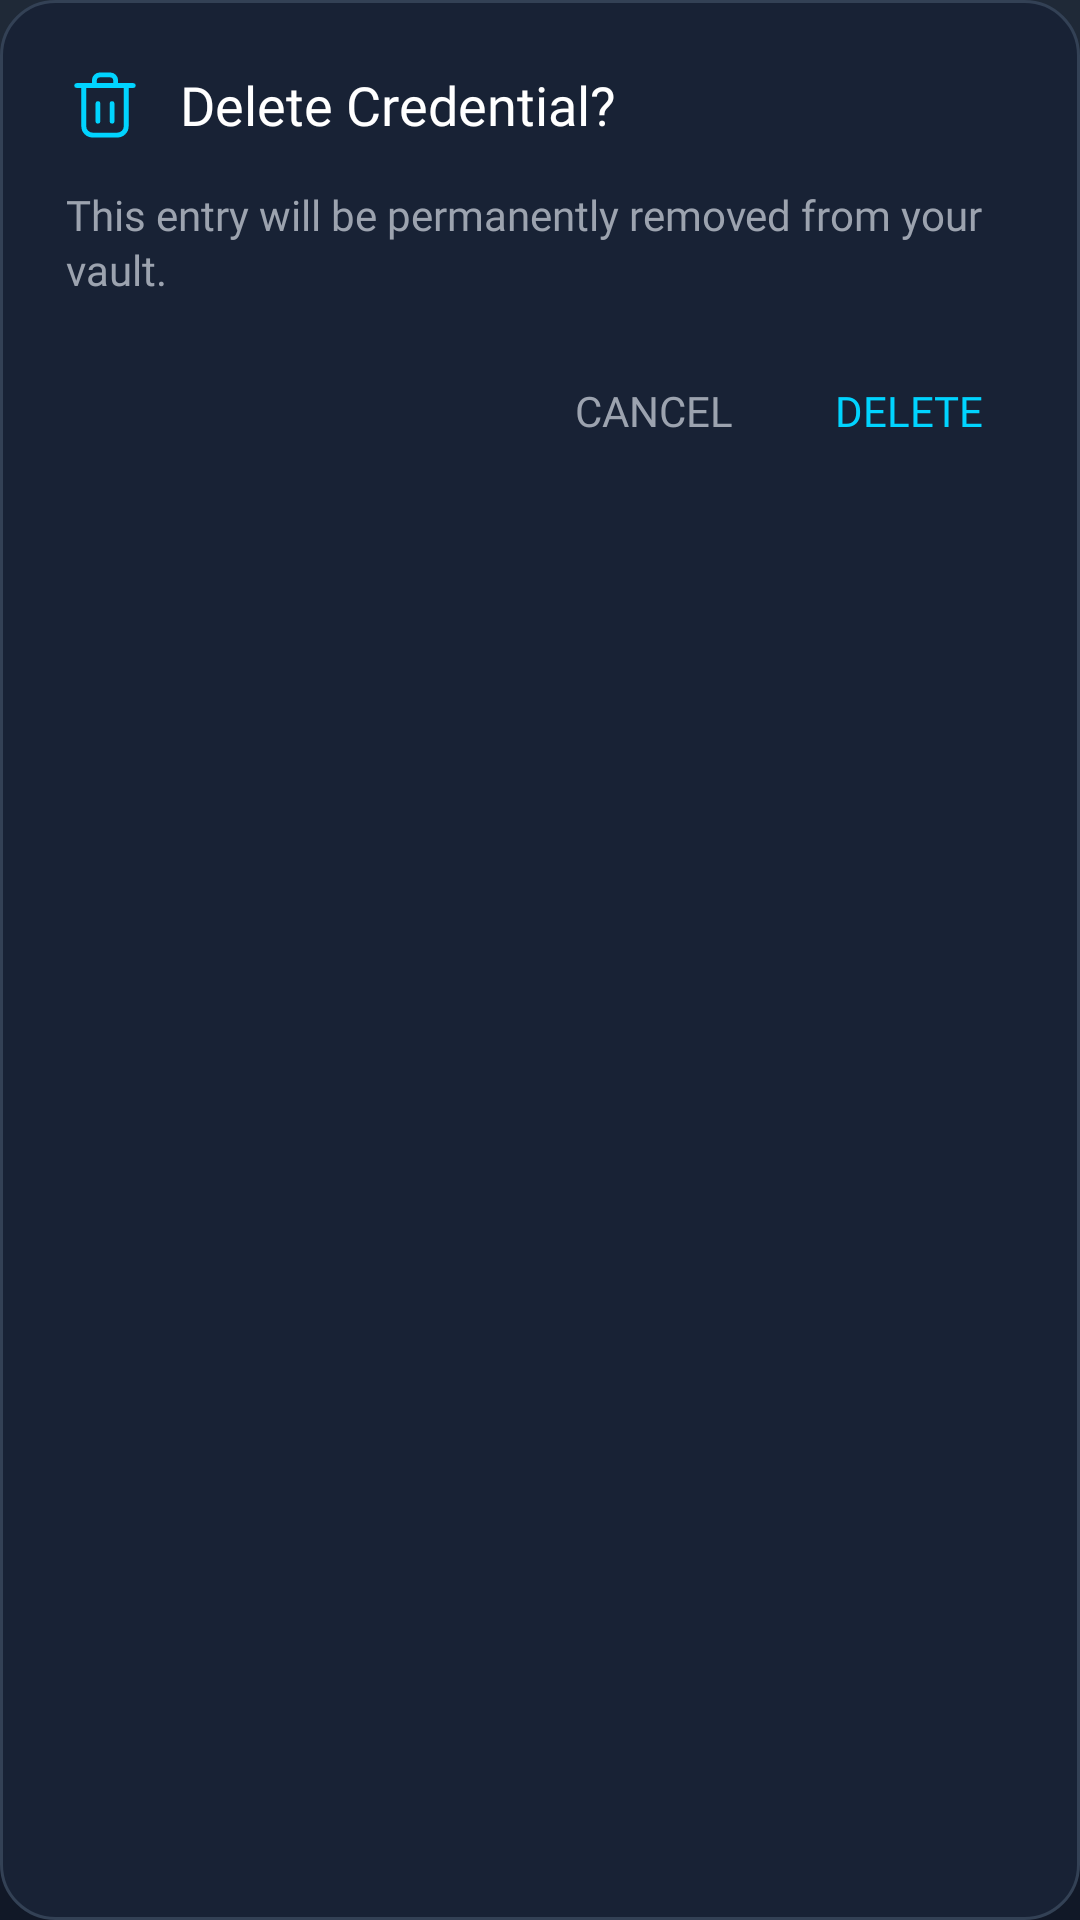

Icon bounding boxes for this 1080px x 1920px phone screenshot, format (x1, y1, x2, y2):
Delete entry: (74, 72, 136, 138)
